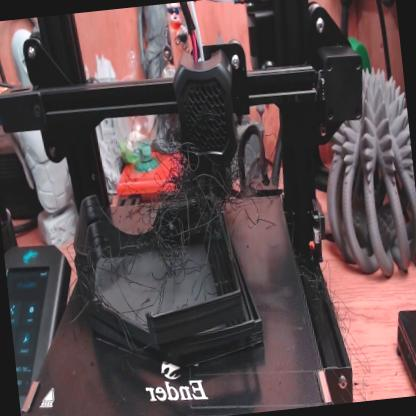fail: (114, 140, 240, 298)
